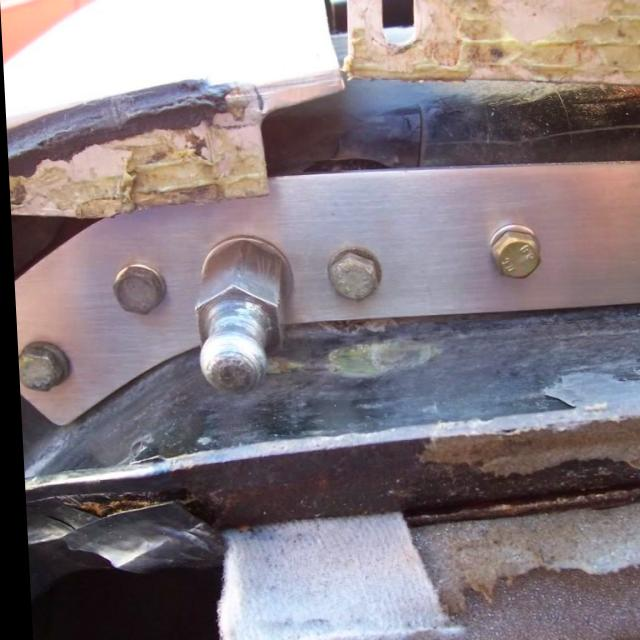Regular bolt: (489, 230, 542, 278), (324, 252, 378, 298), (15, 344, 65, 393), (109, 268, 161, 312)
